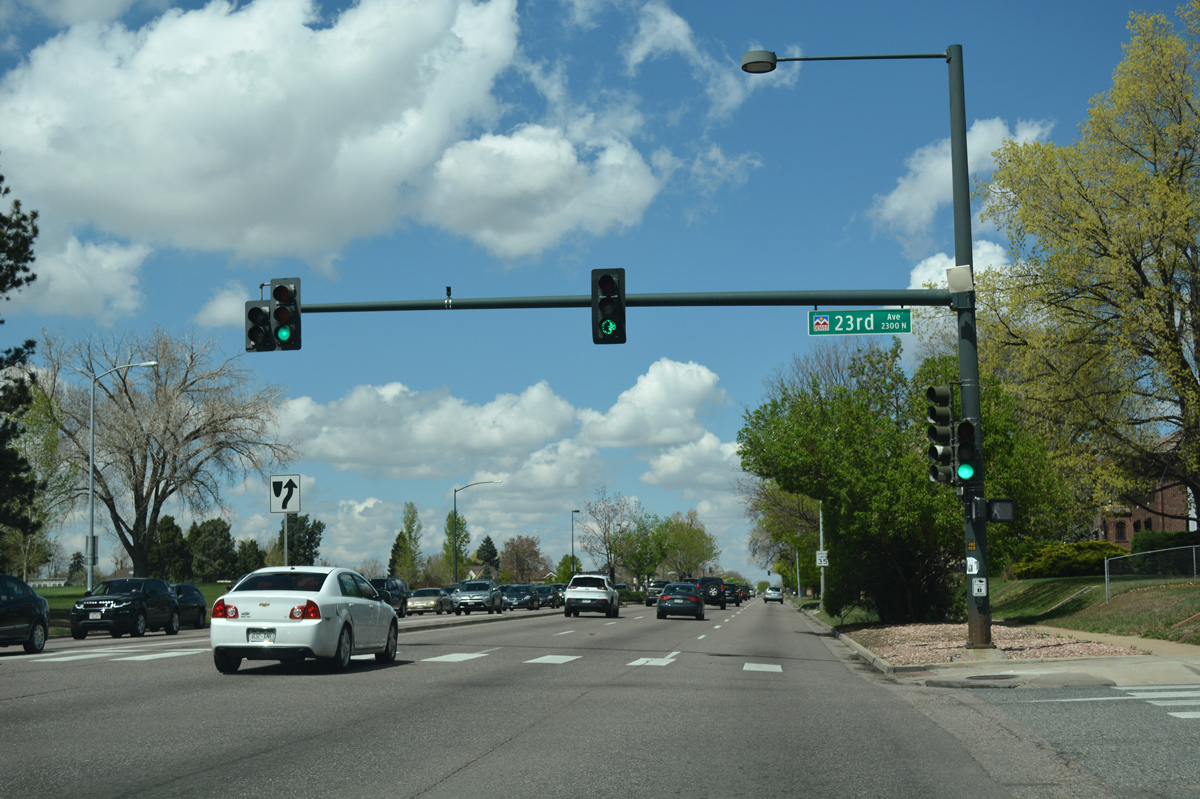traffic_light: (589, 266, 628, 346), (268, 277, 303, 352), (953, 419, 979, 483)
